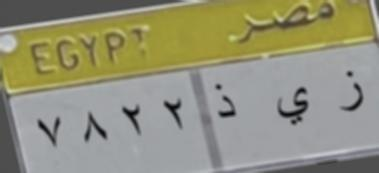2: (158, 86, 192, 140), (120, 93, 150, 143)
7: (35, 109, 72, 159)
8: (77, 106, 108, 152)
yaa: (272, 78, 314, 134)
zaal: (203, 76, 242, 128)
zay: (336, 68, 370, 118)
